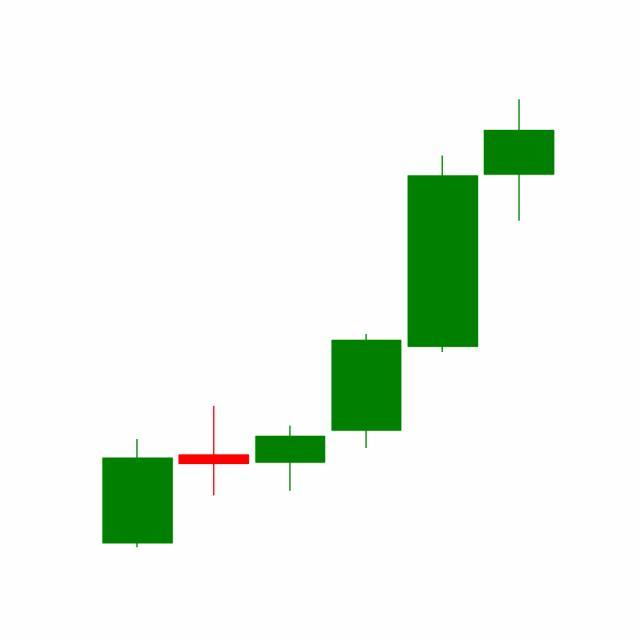Advance Block: (326, 100, 555, 454)
